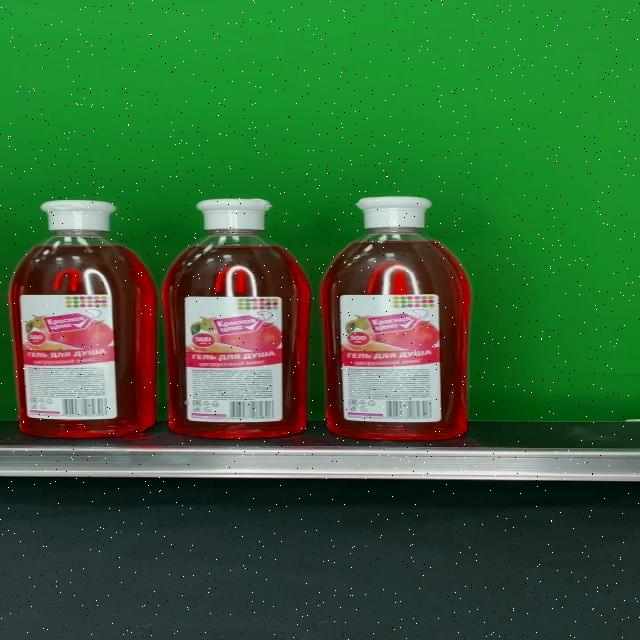Bottle: (321, 196, 471, 440), (7, 199, 156, 438), (163, 197, 311, 437)
Cap: (356, 196, 433, 229), (197, 198, 274, 230), (41, 199, 116, 231)
